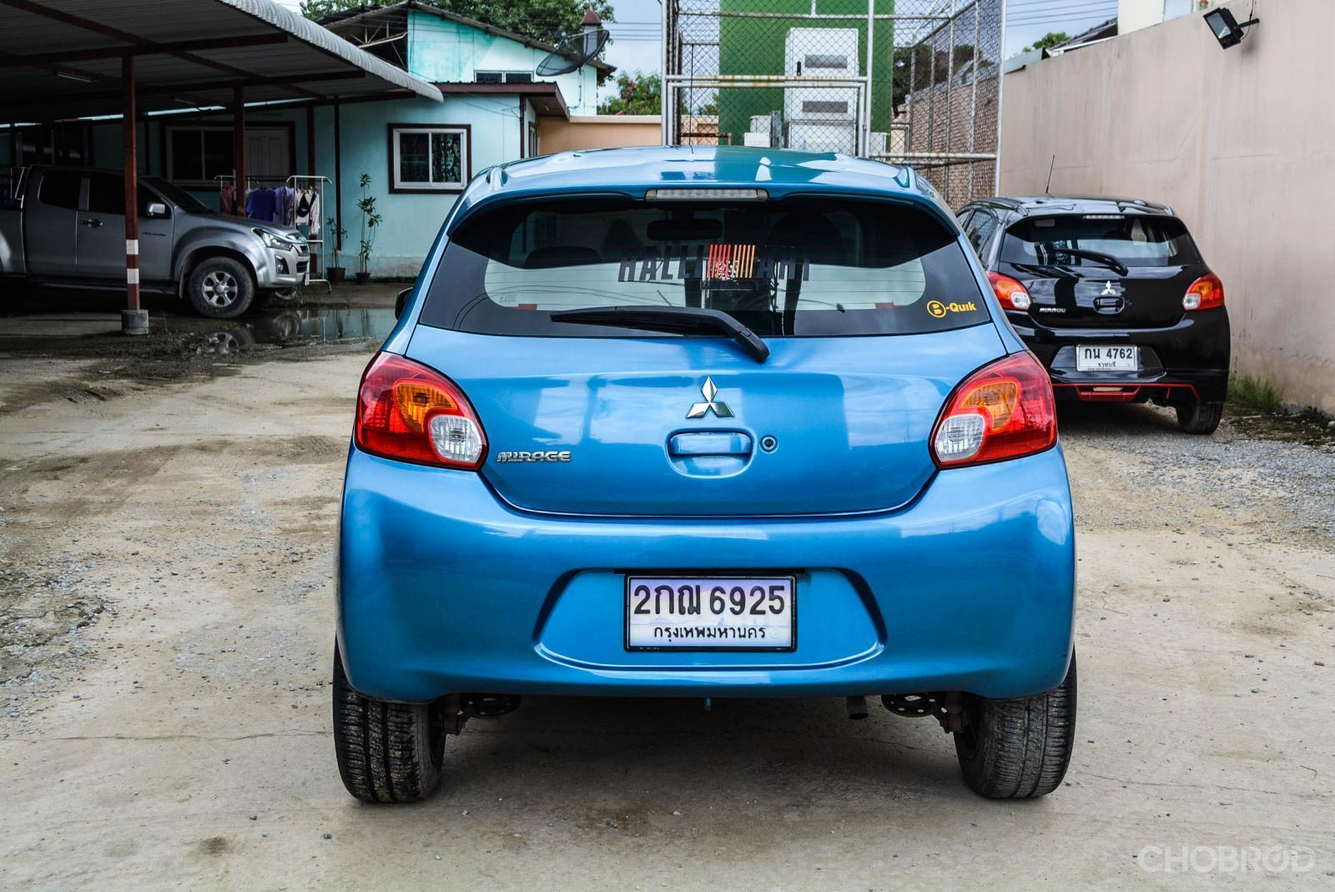license-plate: (623, 571, 800, 653)
